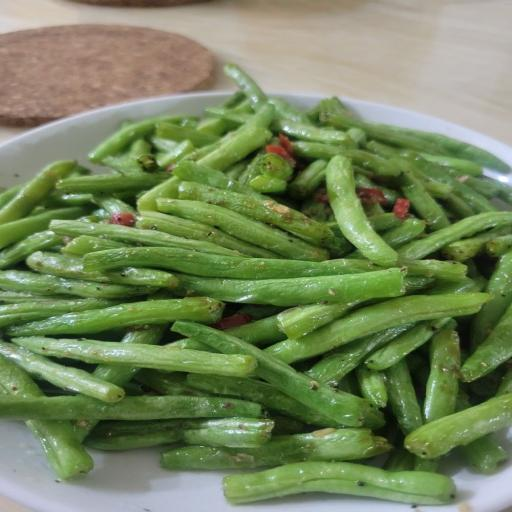buncis_rebus: (6, 28, 508, 502)
